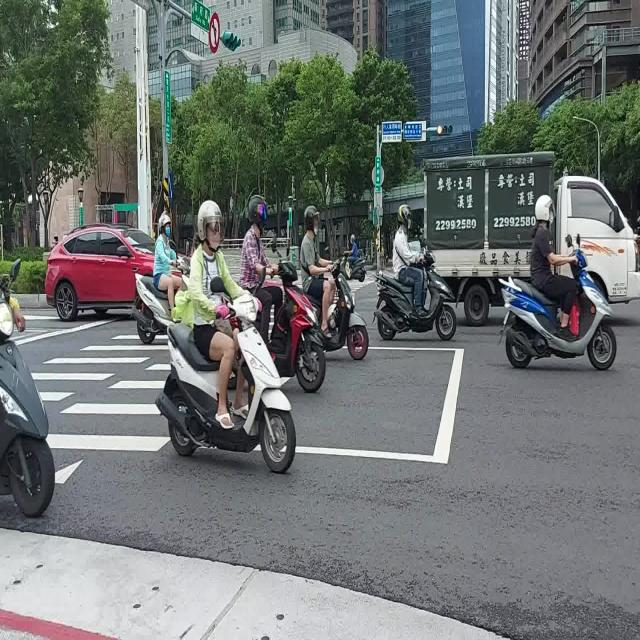car: (45, 224, 154, 320)
crosswalk: (47, 357, 171, 451), (31, 330, 167, 403)
motocycle: (156, 293, 295, 473), (500, 249, 616, 371), (0, 260, 55, 516), (374, 251, 456, 340), (270, 260, 325, 392), (322, 253, 369, 360), (132, 273, 171, 344), (340, 249, 366, 281)
trunk: (424, 151, 640, 324)
